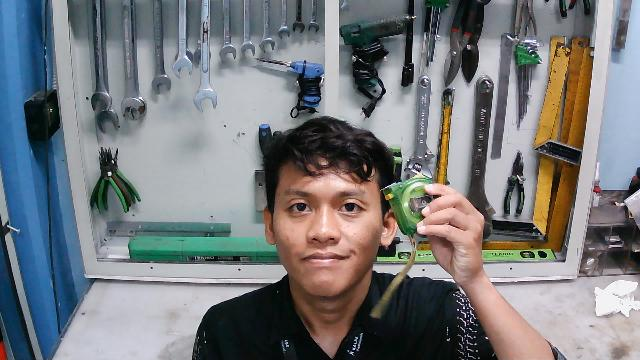meteran: (379, 171, 452, 254)
